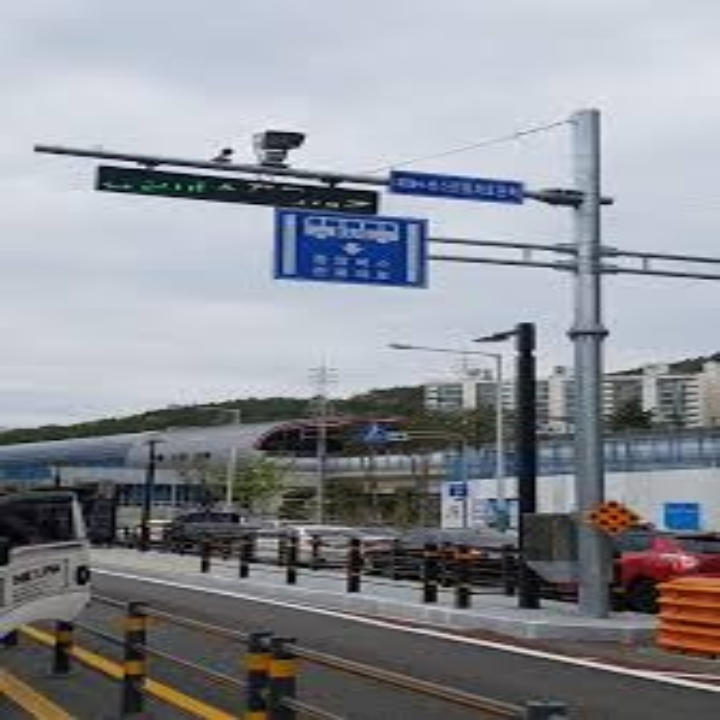bus: (297, 209, 412, 246)
